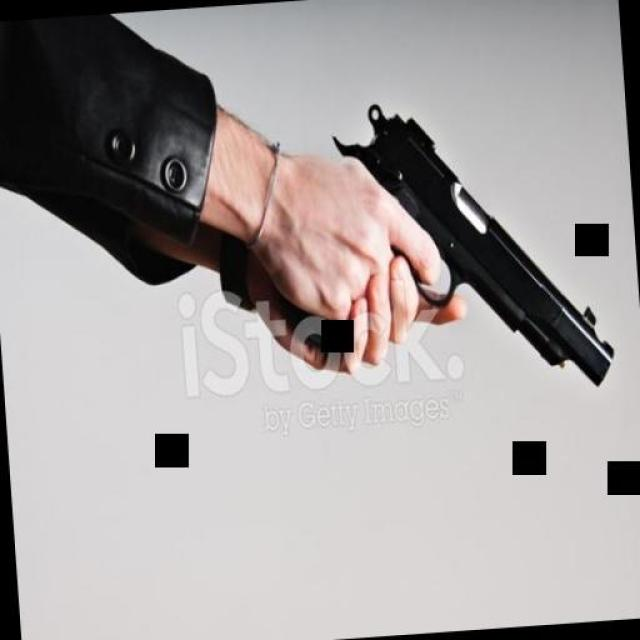gun: (265, 86, 617, 412)
